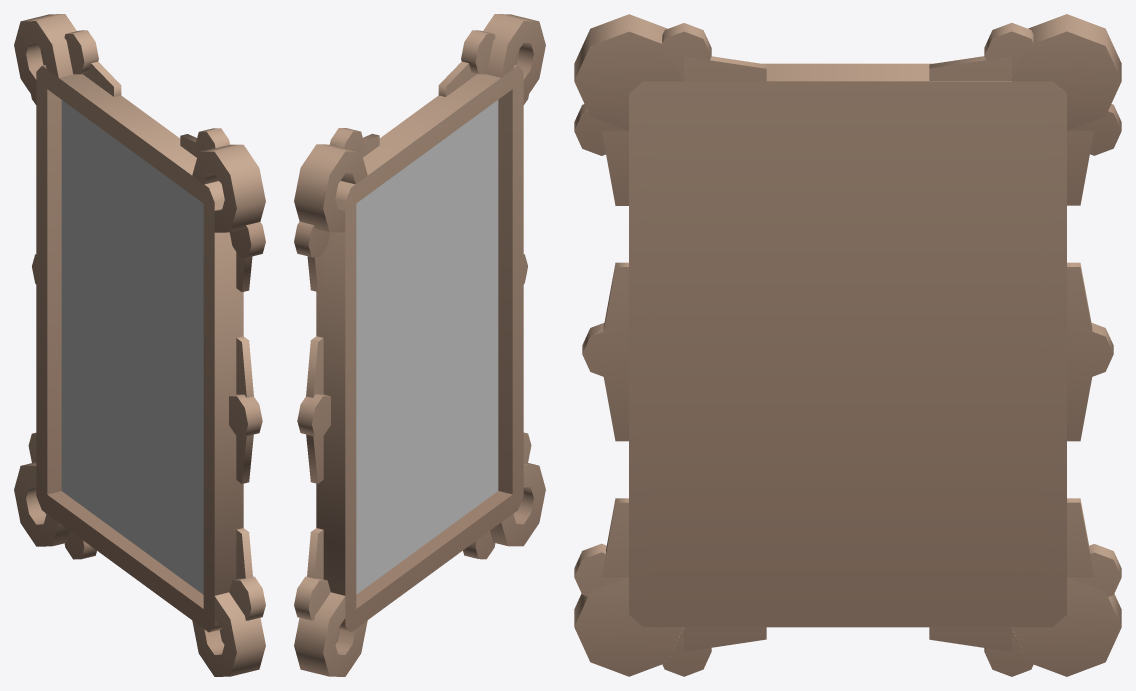
The model's file is art-frame-ornate (%wall) (%secret).glb.
3 renders of one model, left to right at view 1: azimuth 30°, elevation 25°; view 2: azimuth 150°, elevation 25°; view 3: azimuth 270°, elevation 25°, orthographic. The views are drawn at different scales.
Parts seen in each view (by area): view 1: art-frame-ornate (%wall) (%secret); view 2: art-frame-ornate (%wall) (%secret); view 3: art-frame-ornate (%wall) (%secret).
Boxes of the visible parts, x1,y1,x2,y2 form: art-frame-ornate (%wall) (%secret): (14,14,265,676); art-frame-ornate (%wall) (%secret): (294,14,545,676); art-frame-ornate (%wall) (%secret): (574,14,1121,676).
Size of the model in its own units: 0.075 by 1.3 by 0.9965.
